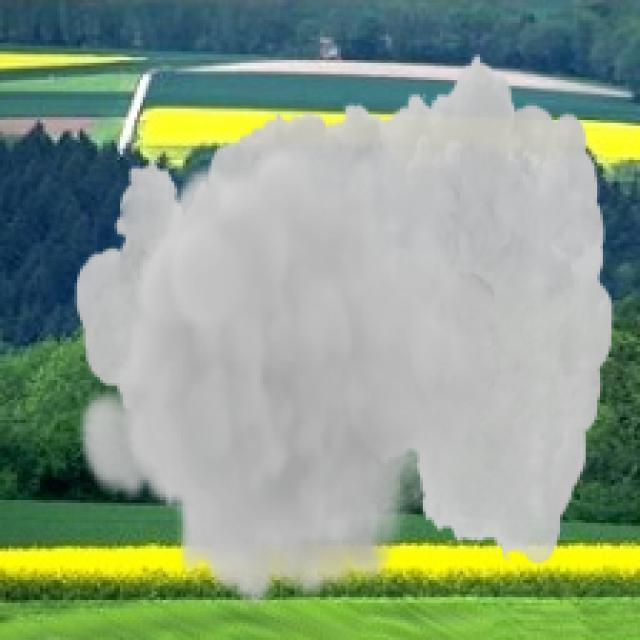Smoke: (75, 51, 614, 608)
